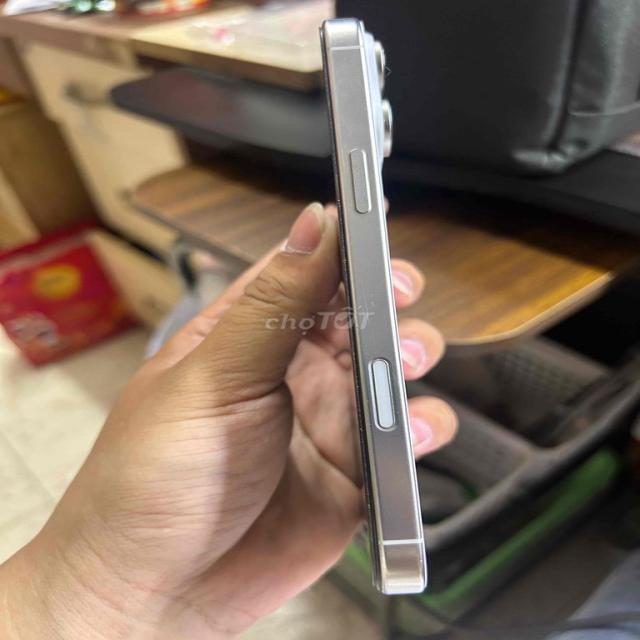gen_16: (320, 18, 427, 593)
